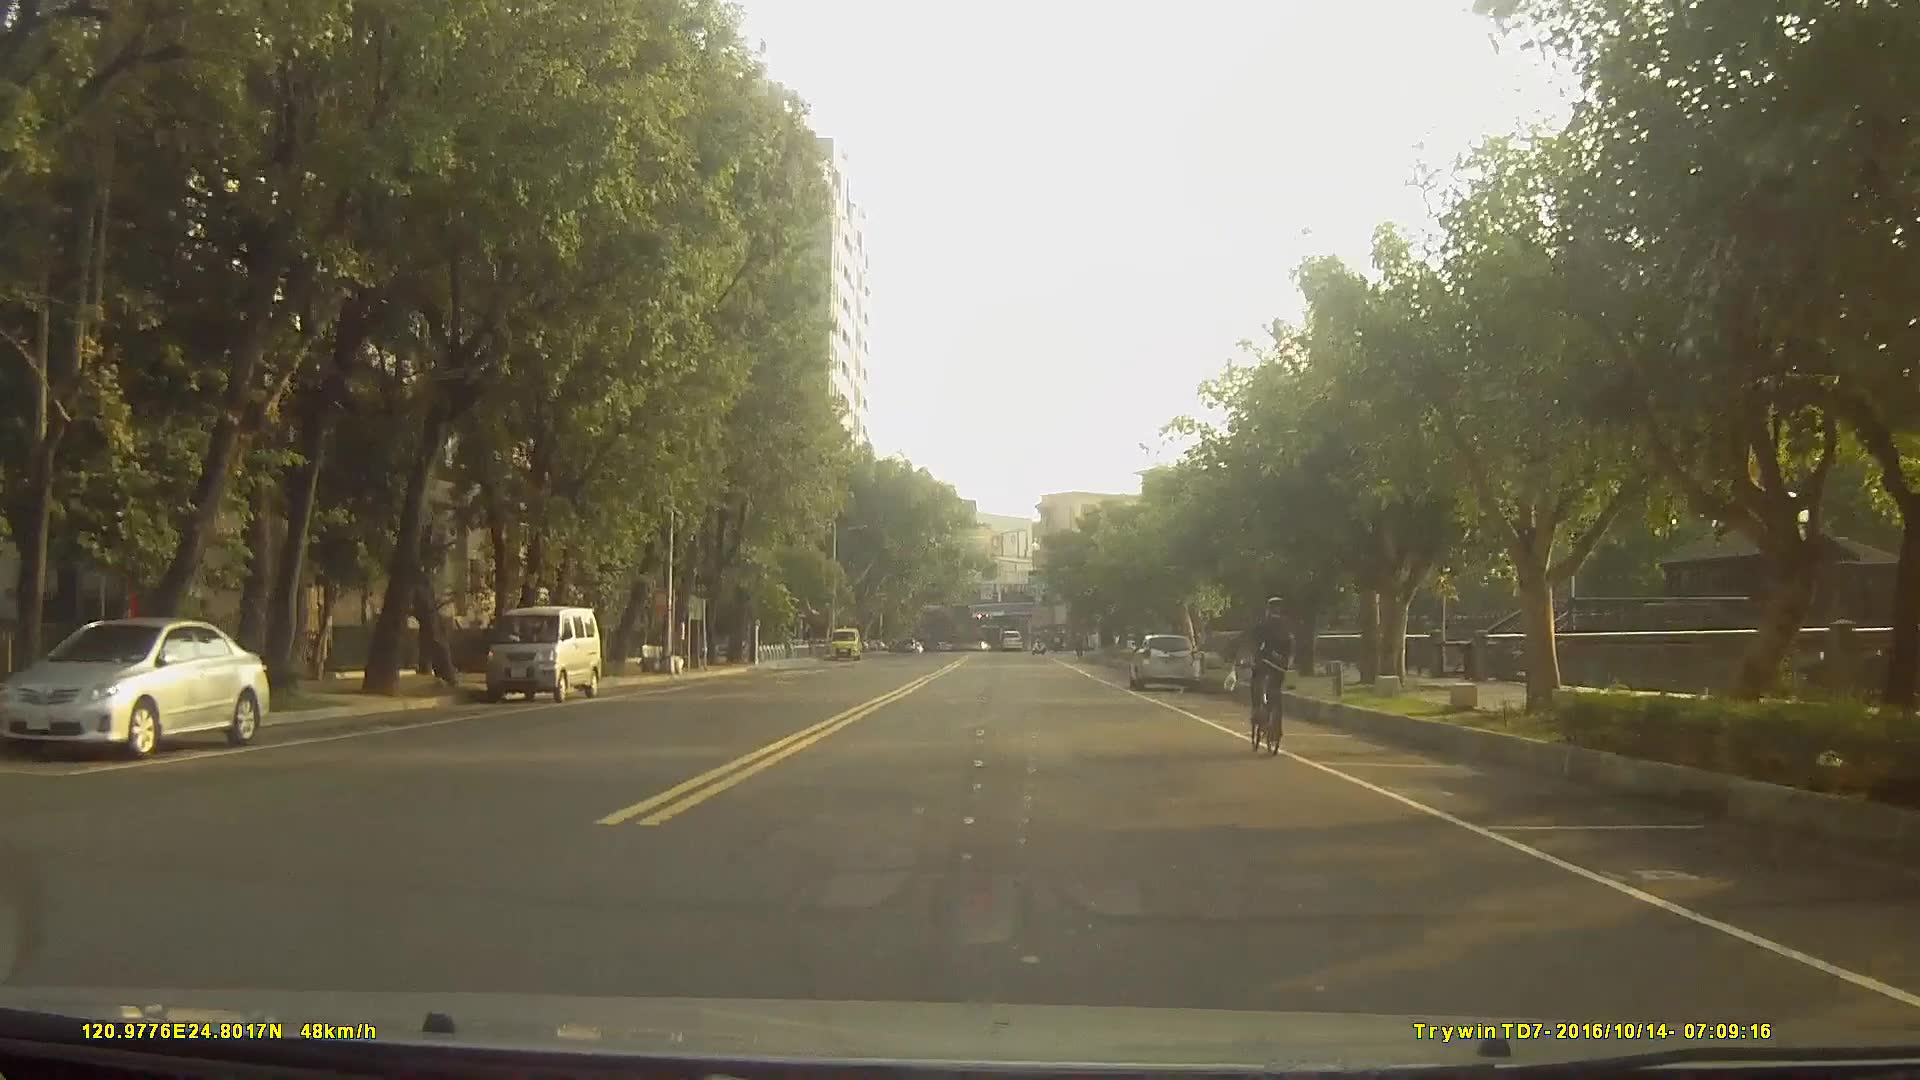rider: (1251, 591, 1296, 750)
vehicle: (0, 615, 273, 755), (484, 603, 602, 703), (1125, 630, 1201, 692), (998, 629, 1023, 653)
